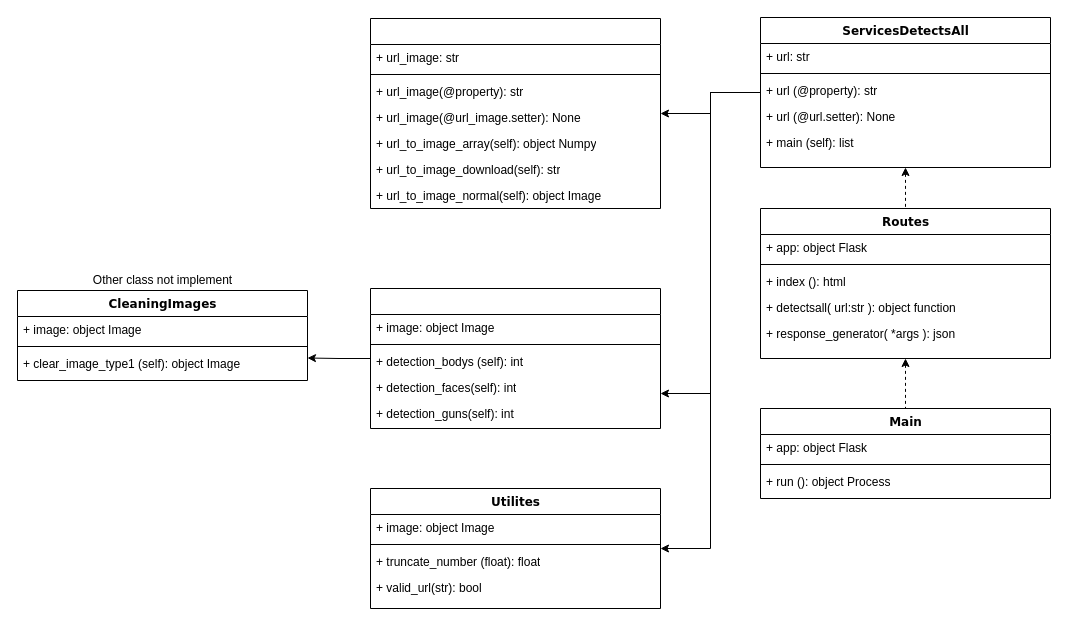
Some shapes in this 1068 by 626 pixel diagram are drawn without their labels. The box of each missing label's shape, as (x1, y1, x2, y2) in pixels:
GetImageUrl: (370, 18, 660, 208)
ImagensDetector: (370, 288, 660, 428)
